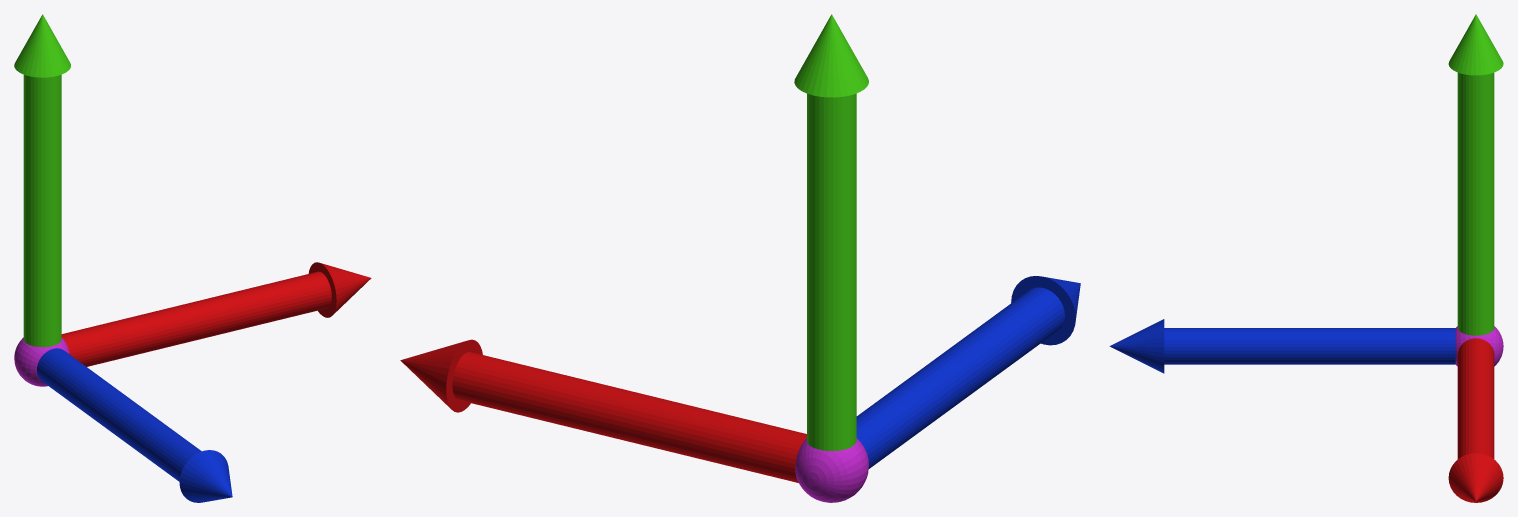
The model's file is axes.obj.
3 views of the same model, side by side, from view 1: azimuth 30°, elevation 25°; view 2: azimuth 150°, elevation 25°; view 3: azimuth 270°, elevation 25° (orthographic). The views are drawn at different scales.
Visible parts, largest first — view 1: Applied_Modifiers_Triangulated_Sphere.003_Green, Applied_Modifiers_Triangulated_Sphere.003_Red, Applied_Modifiers_Triangulated_Sphere.003_Blue, Applied_Modifiers_Triangulated_Sphere.003_Purple; view 2: Applied_Modifiers_Triangulated_Sphere.003_Green, Applied_Modifiers_Triangulated_Sphere.003_Red, Applied_Modifiers_Triangulated_Sphere.003_Blue, Applied_Modifiers_Triangulated_Sphere.003_Purple; view 3: Applied_Modifiers_Triangulated_Sphere.003_Blue, Applied_Modifiers_Triangulated_Sphere.003_Green, Applied_Modifiers_Triangulated_Sphere.003_Red, Applied_Modifiers_Triangulated_Sphere.003_Purple.
Part boxes in pixels (box(x1,y1,x2,y2)): Applied_Modifiers_Triangulated_Sphere.003_Green: box(14, 14, 70, 347); Applied_Modifiers_Triangulated_Sphere.003_Red: box(61, 262, 371, 366); Applied_Modifiers_Triangulated_Sphere.003_Blue: box(37, 348, 232, 502); Applied_Modifiers_Triangulated_Sphere.003_Purple: box(14, 337, 69, 386); Applied_Modifiers_Triangulated_Sphere.003_Green: box(794, 14, 868, 450); Applied_Modifiers_Triangulated_Sphere.003_Red: box(400, 339, 806, 482); Applied_Modifiers_Triangulated_Sphere.003_Blue: box(856, 276, 1080, 468); Applied_Modifiers_Triangulated_Sphere.003_Purple: box(795, 438, 868, 502); Applied_Modifiers_Triangulated_Sphere.003_Blue: box(1109, 319, 1455, 373); Applied_Modifiers_Triangulated_Sphere.003_Green: box(1448, 14, 1503, 335); Applied_Modifiers_Triangulated_Sphere.003_Red: box(1448, 338, 1503, 502); Applied_Modifiers_Triangulated_Sphere.003_Purple: box(1455, 326, 1503, 366).
Bounding box in the file's own units: 2.15 × 2.15 × 2.15.
